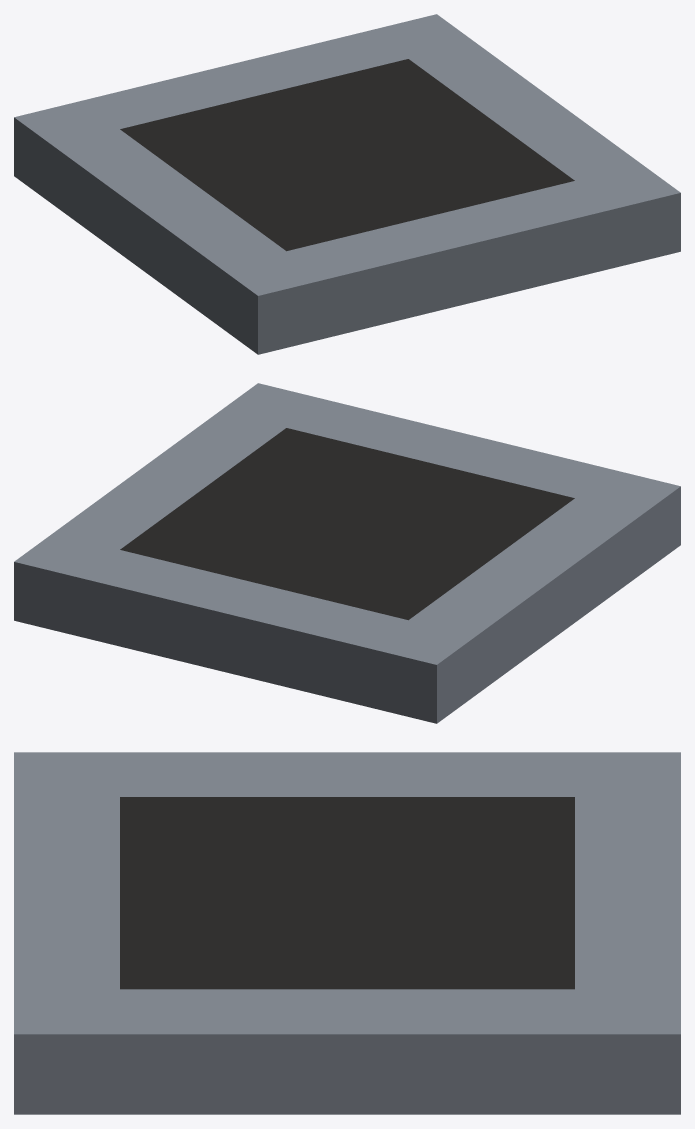
The model's file is SO_Drain.fbx.
The picture shows the model from 3 angles, top to bottom: view 1: azimuth 30°, elevation 25°; view 2: azimuth 150°, elevation 25°; view 3: azimuth 270°, elevation 25°; orthographic projection. The views are drawn at different scales.
Parts seen in each view (by area): view 1: SO_Drain; view 2: SO_Drain; view 3: SO_Drain.
Boxes of the visible parts, <box> form: SO_Drain: <box>14,14,680,354</box>; SO_Drain: <box>14,383,680,723</box>; SO_Drain: <box>14,752,680,1114</box>.
Size of the model in its own units: 0.2796 by 0.0372 by 0.2796.
